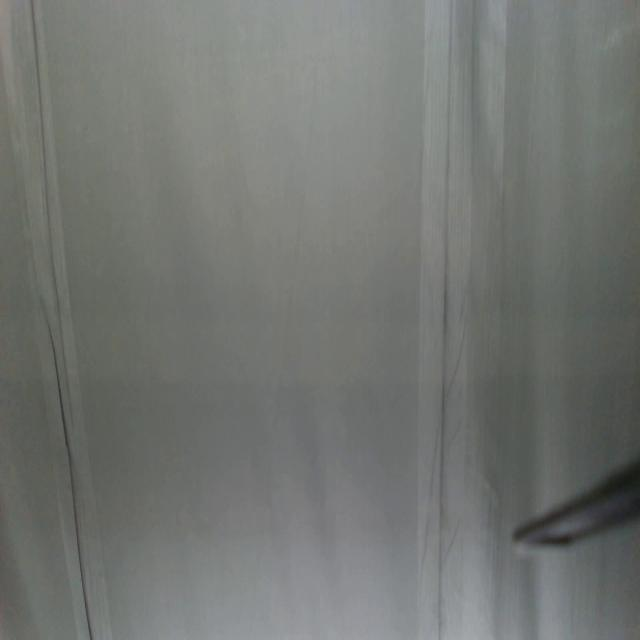crease: (22, 1, 95, 640), (420, 0, 475, 638)
